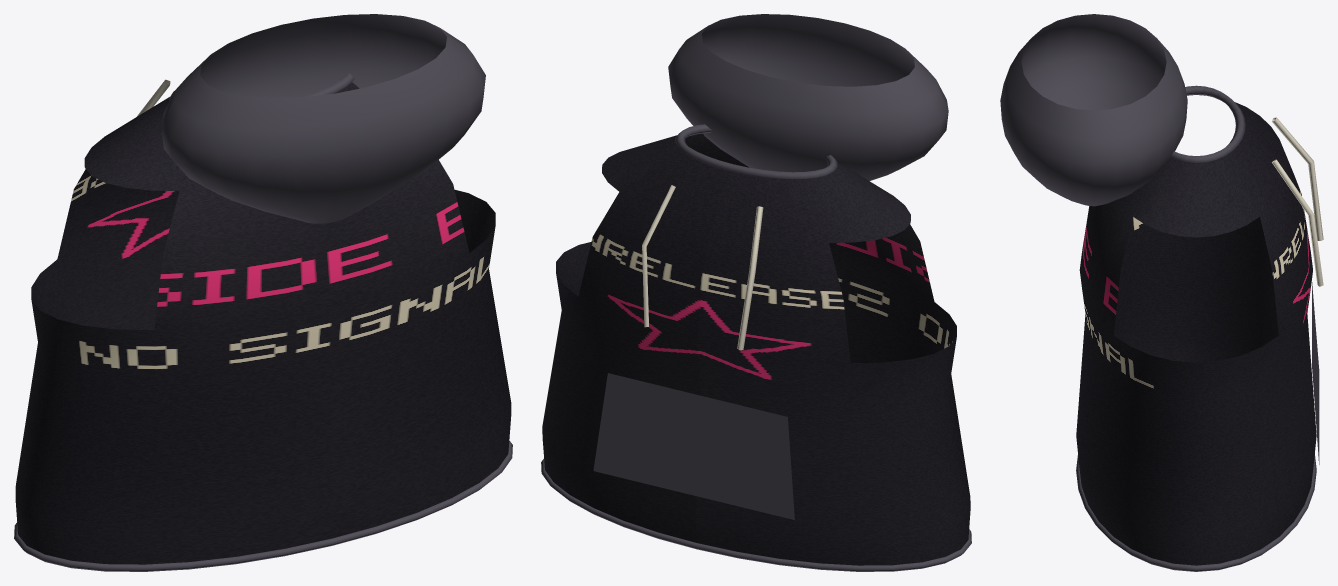
Rendered from SB_TOP_03.fbx.
3 views of the same model, side by side, from view 1: azimuth 30°, elevation 25°; view 2: azimuth 150°, elevation 25°; view 3: azimuth 270°, elevation 25° (orthographic). The views are drawn at different scales.
Parts seen in each view (by area): view 1: Camiseta_com_caimento.009, BlenderTopo_Capuz_baixado, BlenderTopo_Barra.008; view 2: Camiseta_com_caimento.009, BlenderTopo_Capuz_baixado, BlenderTopo_Bolso_canguru, BlenderTopo_Barra.008, BlenderTopo_Gola.008, BlenderTopo_Cordao, BlenderTopo_Cordao.001; view 3: Camiseta_com_caimento.009, BlenderTopo_Capuz_baixado, BlenderTopo_Barra.008, BlenderTopo_Gola.008, BlenderTopo_Cordao, BlenderTopo_Cordao.001, BlenderTopo_Bolso_canguru.
Part boxes in pixels (x1,y1,x2,y2): Camiseta_com_caimento.009: (15, 82, 511, 564); BlenderTopo_Capuz_baixado: (161, 14, 485, 223); BlenderTopo_Barra.008: (14, 441, 512, 571); Camiseta_com_caimento.009: (542, 133, 970, 565); BlenderTopo_Capuz_baixado: (668, 14, 948, 180); BlenderTopo_Bolso_canguru: (593, 373, 794, 519); BlenderTopo_Barra.008: (541, 459, 971, 571); BlenderTopo_Gola.008: (675, 124, 837, 179); BlenderTopo_Cordao: (737, 206, 763, 350); BlenderTopo_Cordao.001: (642, 185, 675, 327); Camiseta_com_caimento.009: (1076, 94, 1316, 565); BlenderTopo_Capuz_baixado: (1000, 14, 1187, 206); BlenderTopo_Barra.008: (1076, 454, 1316, 571); BlenderTopo_Gola.008: (1170, 85, 1245, 163); BlenderTopo_Cordao: (1272, 117, 1323, 240); BlenderTopo_Cordao.001: (1272, 159, 1323, 286); BlenderTopo_Bolso_canguru: (1312, 282, 1319, 464).
Size of the model in its own units: 115 by 111 by 78.95.
Materials: 3 (1 with a texture image).
